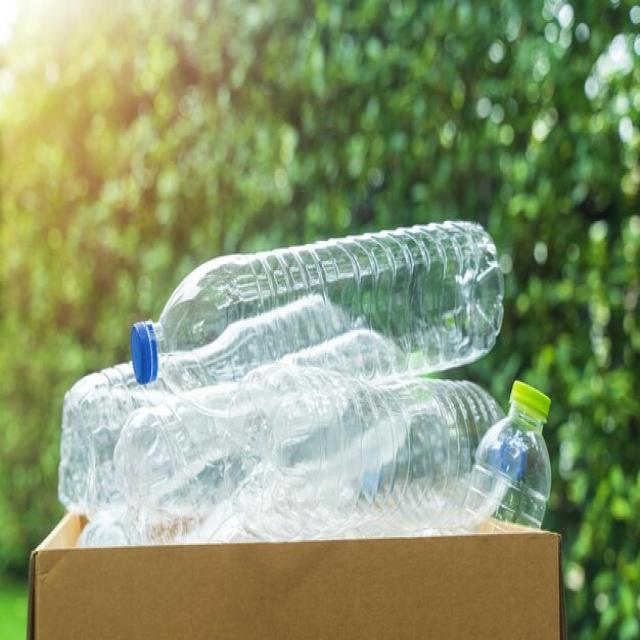plastic_bottle: (107, 196, 521, 420)
